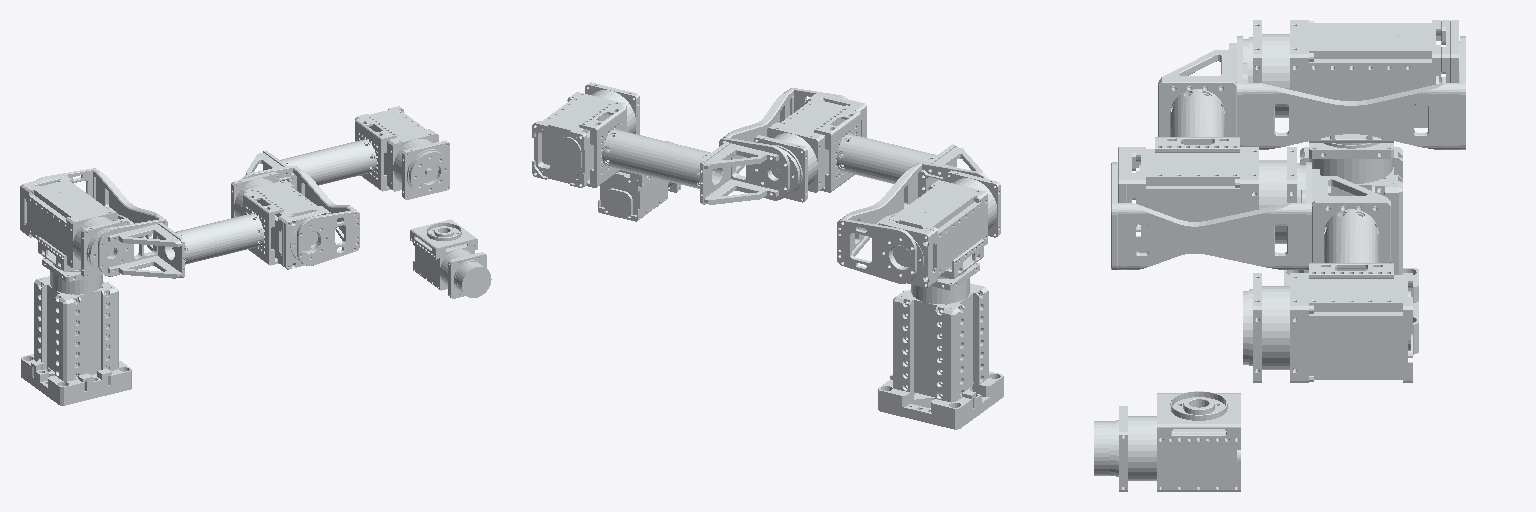
The robot description file, URDF, robot "single_arm_v22_19cm":
<?xml version="1.0" encoding="utf-8"?>
<!-- This URDF was automatically created by SolidWorks to URDF Exporter! Originally created by [author] ([email redacted]) 
     Commit Version: 1.6.0-4-g7f85cfe  Build Version: 1.6.7995.38578
     For more information, please see http://wiki.ros.org/sw_urdf_exporter -->
<robot
  name="single_arm_v22_19cm">
  <link name="dummy"/>
  <joint name="dummy_joint" type="fixed">
    <parent link="dummy"/>
    <child link="base_link"/>
    </joint>
  <link name='base_link'>
  <!-- <link
    name="base_link"> -->
    <inertial>
      <origin
        xyz="-0.00010098 -0.00035109 0.054127"
        rpy="0 0 0" />
      <mass
        value="2.94316" />
      <inertia
        ixx="0.00082016"
        ixy="3.555E-10"
        ixz="-4.1821E-06"
        iyy="0.00081979"
        iyz="-1.4527E-07"
        izz="0.00035328" />
    </inertial>
    <visual>
      <origin
        xyz="0 0 0"
        rpy="0 0 0" />
      <geometry>
        <mesh
          filename="package://single_arm_v22_19cm/meshes/base_link.STL" />
      </geometry>
      <material
        name="">
        <color
          rgba="0.89804 0.91765 0.92941 1" />
      </material>
    </visual>
    <collision>
      <origin
        xyz="0 0 0"
        rpy="0 0 0" />
      <geometry>
        <mesh
          filename="package://single_arm_v22_19cm/meshes/base_link.STL" />
      </geometry>
    </collision>
  </link>
  <link
    name="link1">
    <inertial>
      <origin
        xyz="3.305E-06 0.0036146 0.029085"
        rpy="0 0 0" />
      <mass
        value="0.93428" />
      <inertia
        ixx="0.00048112"
        ixy="-7.0827E-08"
        ixz="-3.5566E-10"
        iyy="0.00018986"
        iyz="4.1821E-06"
        izz="0.0004948" />
    </inertial>
    <visual>
      <origin
        xyz="0 0 0"
        rpy="0 0 0" />
      <geometry>
        <mesh
          filename="package://single_arm_v22_19cm/meshes/link1.STL" />
      </geometry>
      <material
        name="">
        <color
          rgba="0.89804 0.91765 0.92941 1" />
      </material>
    </visual>
    <collision>
      <origin
        xyz="0 0 0"
        rpy="0 0 0" />
      <geometry>
        <mesh
          filename="package://single_arm_v22_19cm/meshes/link1.STL" />
      </geometry>
    </collision>
  </link>
  <joint
    name="joint1"
    type="revolute">
    <origin
      xyz="0 0 0.1445"
      rpy="0 0 0" />
    <parent
      link="base_link" />
    <child
      link="link1" />
    <axis
      xyz="0 0 1" />
    <limit
      lower="-3.14"
      upper="3.14"
      effort="0"
      velocity="0" />
  </joint>
  <link
    name="link2">
    <inertial>
      <origin
        xyz="0.13085 2.3588E-07 0.0069014"
        rpy="0 0 0" />
      <mass
        value="1.07602" />
      <inertia
        ixx="0.00052683"
        ixy="-1.872E-12"
        ixz="3.6733E-07"
        iyy="0.00061287"
        iyz="-4.2672E-10"
        izz="0.00035484" />
    </inertial>
    <visual>
      <origin
        xyz="0 0 0"
        rpy="0 0 0" />
      <geometry>
        <mesh
          filename="package://dynamics/src/dynamics/meshes/single_arm_v22_2_19.0.STL" />
      </geometry>
      <material
        name="">
        <color
          rgba="0.89804 0.91765 0.92941 1" />
      </material>
    </visual>
    <collision>
      <origin
        xyz="0 0 0"
        rpy="0 0 0" />
      <geometry>
        <mesh
          filename="package://single_arm_v22_19cm/meshes/link2.STL" />
      </geometry>
    </collision>
  </link>
  <joint
    name="joint2"
    type="revolute">
    <origin
      xyz="0 -0.0685 0.0315"
      rpy="1.5708 0 0" />
    <parent
      link="link1" />
    <child
      link="link2" />
    <axis
      xyz="0 0 1" />
    <limit
      lower="-3.14"
      upper="3.14"
      effort="0"
      velocity="0" />
  </joint>
  <link
    name="link3">
    <inertial>
      <origin
        xyz="0.12526 2.0553E-07 -0.0051296"
        rpy="0 0 0" />
      <mass
        value="1.00039" />
      <inertia
        ixx="0.00046554"
        ixy="-1.0231E-11"
        ixz="-1.2577E-06"
        iyy="0.00056731"
        iyz="-9.0438E-10"
        izz="0.00033638" />
    </inertial>
    <visual>
      <origin
        xyz="0 0 0"
        rpy="0 0 0" />
      <geometry>
        <mesh
          filename="package://dynamics/src/dynamics/meshes/single_arm_v22_3_19.0.STL" />
      </geometry>
      <material
        name="">
        <color
          rgba="0.89804 0.91765 0.92941 1" />
      </material>
    </visual>
    <collision>
      <origin
        xyz="0 0 0"
        rpy="0 0 0" />
      <geometry>
        <mesh
          filename="package://single_arm_v22_19cm/meshes/link3.STL" />
      </geometry>
    </collision>
  </link>
  <joint
    name="joint3"
    type="revolute">
    <origin
      xyz="0.19 0 -0.0390000000000001"
      rpy="0 0 0" />
    <parent
      link="link2" />
    <child
      link="link3" />
    <axis
      xyz="0 0 -1" />
    <limit
      lower="-3.14"
      upper="3.14"
      effort="0"
      velocity="0" />
  </joint>
  <link
    name="link4">
    <inertial>
      <origin
        xyz="2.2204E-16 0.01039 0.02404"
        rpy="0 0 0" />
      <mass
        value="0.36924" />
      <inertia
        ixx="9.4187E-05"
        ixy="1.2869E-19"
        ixz="-1.4501E-16"
        iyy="4.476E-05"
        iyz="5.3346E-07"
        izz="0.0001027" />
    </inertial>
    <visual>
      <origin
        xyz="0 0 0"
        rpy="0 0 0" />
      <geometry>
        <mesh
          filename="package://single_arm_v22_19cm/meshes/link4.STL" />
      </geometry>
      <material
        name="">
        <color
          rgba="0.89804 0.91765 0.92941 1" />
      </material>
    </visual>
    <collision>
      <origin
        xyz="0 0 0"
        rpy="0 0 0" />
      <geometry>
        <mesh
          filename="package://single_arm_v22_19cm/meshes/link4.STL" />
      </geometry>
    </collision>
  </link>
  <joint
    name="joint4"
    type="revolute">
    <origin
      xyz="0.19 0 0.0390000000000083"
      rpy="0 0 -3.14159265358979" />
    <parent
      link="link3" />
    <child
      link="link4" />
    <axis
      xyz="0 0 1" />
    <limit
      lower="-3.14"
      upper="3.14"
      effort="0"
      velocity="0" />
  </joint>
  <link
    name="link5">
    <inertial>
      <origin
        xyz="0.028614 0.010457 -3.3307E-16"
        rpy="0 0 0" />
      <mass
        value="0.36821" />
      <inertia
        ixx="0.00010133"
        ixy="5.3346E-07"
        ixz="1.4501E-16"
        iyy="4.3878E-05"
        iyz="-8.1817E-20"
        izz="9.3658E-05" />
    </inertial>
    <visual>
      <origin
        xyz="0 0 0"
        rpy="0 0 0" />
      <geometry>
        <mesh
          filename="package://single_arm_v22_19cm/meshes/link5.STL" />
      </geometry>
      <material
        name="">
        <color
          rgba="0.89804 0.91765 0.92941 1" />
      </material>
    </visual>
    <collision>
      <origin
        xyz="0 0 0"
        rpy="0 0 0" />
      <geometry>
        <mesh
          filename="package://single_arm_v22_19cm/meshes/link5.STL" />
      </geometry>
    </collision>
  </link>
  <joint
    name="joint5"
    type="revolute">
    <origin
      xyz="0 0.052 0.0286"
      rpy="1.5707963267949 0 1.5707963267949" />
    <parent
      link="link4" />
    <child
      link="link5" />
    <axis
      xyz="1 0 0" />
    <limit
      lower="-3.14"
      upper="3.14"
      effort="0"
      velocity="0" />
  </joint>
  <link
    name="link6">
    <inertial>
      <origin
        xyz="-4.44089209850063E-16 5.37938091366846E-07 -0.00700006055550936"
        rpy="0 0 0" />
      <mass
        value="0.0259770442543706" />
      <inertia
        ixx="2.20534281951167E-06"
        ixy="1.78671012311437E-22"
        ixz="-8.79317315621994E-22"
        iyy="2.20534281951168E-06"
        iyz="2.32583060538047E-20"
        izz="3.9777349014505E-06" />
    </inertial>
    <visual>
      <origin
        xyz="0 0 0"
        rpy="0 0 0" />
      <geometry>
        <mesh
          filename="package://single_arm_v22_19cm/meshes/link6.STL" />
      </geometry>
      <material
        name="">
        <color
          rgba="0.898039215686275 0.917647058823529 0.929411764705882 1" />
      </material>
    </visual>
    <collision>
      <origin
        xyz="0 0 0"
        rpy="0 0 0" />
      <geometry>
        <mesh
          filename="package://single_arm_v22_19cm/meshes/link6.STL" />
      </geometry>
    </collision>
  </link>
  <joint
    name="joint6"
    type="revolute">
    <origin
      xyz="0.0330005379381037 0.0549999394444907 0"
      rpy="1.57079632679488 -1.5707963267949 0" />
    <parent
      link="link5" />
    <child
      link="link6" />
    <axis
      xyz="0 0 1" />
    <limit
      lower="-3.14"
      upper="3.14"
      effort="0"
      velocity="0" />
  </joint>
</robot>

--- Render facts (derived) ---
3 views of the same robot in one strip: view 1: azimuth 30°, elevation 25°; view 2: azimuth 150°, elevation 25°; view 3: azimuth 270°, elevation 25° (orthographic).
Robot: single_arm_v22_19cm — 8 links, 7 joints (6 revolute, 1 fixed); root link dummy; default pose: all joints at 0.
Visible links, largest first — view 1: link2, link3, base_link, link1, link5, link6; view 2: link3, link2, base_link, link1, link5; view 3: link3, link2, link1, link5, base_link, link6.
Link boxes in pixels (bbox=[...]): link2: bbox=[36, 168, 331, 278]; link3: bbox=[241, 106, 449, 265]; base_link: bbox=[21, 257, 131, 405]; link1: bbox=[20, 174, 129, 277]; link5: bbox=[410, 219, 486, 298]; link6: bbox=[457, 263, 491, 297]; link3: bbox=[532, 82, 848, 204]; link2: bbox=[754, 92, 989, 283]; base_link: bbox=[878, 262, 1003, 429]; link1: bbox=[878, 170, 1000, 287]; link5: bbox=[598, 170, 680, 221]; link3: bbox=[1111, 162, 1412, 382]; link2: bbox=[1118, 36, 1465, 253]; link1: bbox=[1243, 20, 1459, 142]; link5: bbox=[1110, 391, 1240, 491]; base_link: bbox=[1284, 143, 1418, 354]; link6: bbox=[1094, 421, 1109, 475].
Bounding box of the posed robot: 0.45 × 0.2371 × 0.206 m (x, y, z).
6 mesh visuals loaded from 7 distinct referenced files (6 binary STL); not drawn: 1 (reference not matched to a file when rendering).